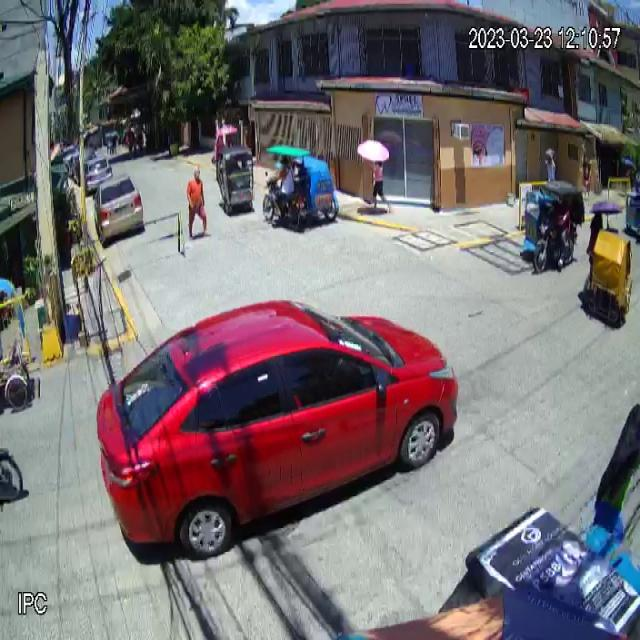Car: (95, 297, 461, 559)
Tricycle: (262, 144, 340, 235)
